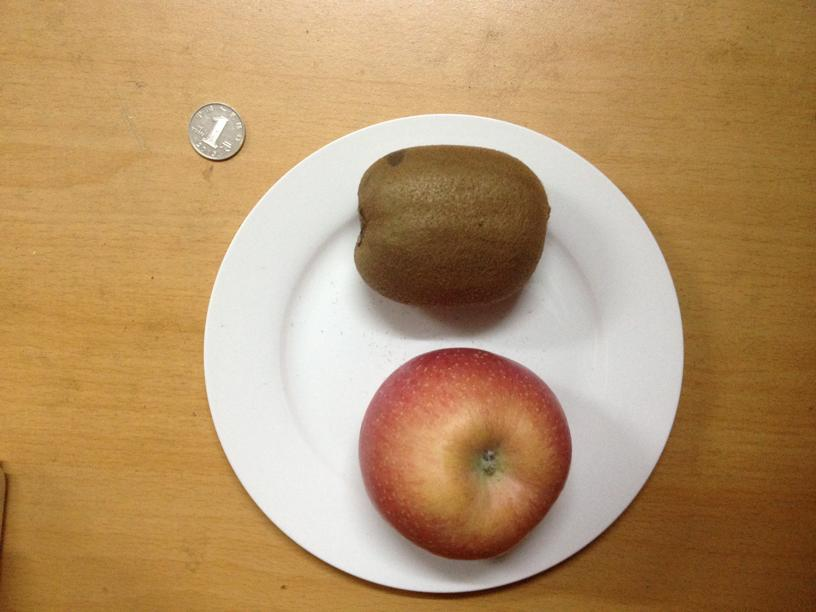apple: (356, 343, 571, 559)
coin: (184, 104, 247, 159)
qiwi: (352, 144, 551, 307)
